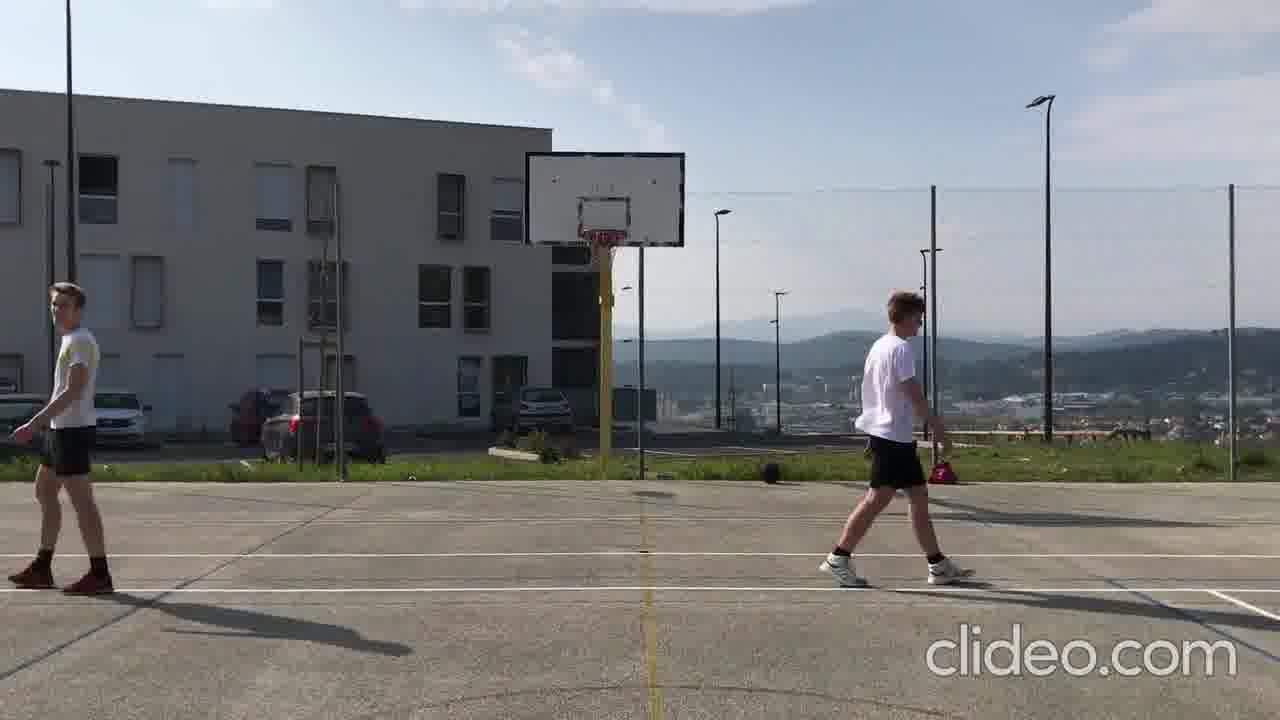jugador: (7, 260, 120, 600)
